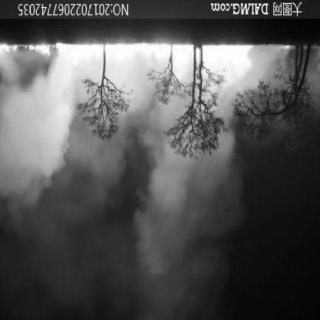Fire: (1, 42, 270, 102)
